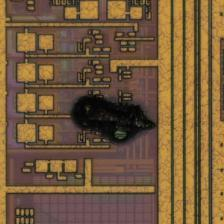PARTICLE: (66, 90, 158, 152)
